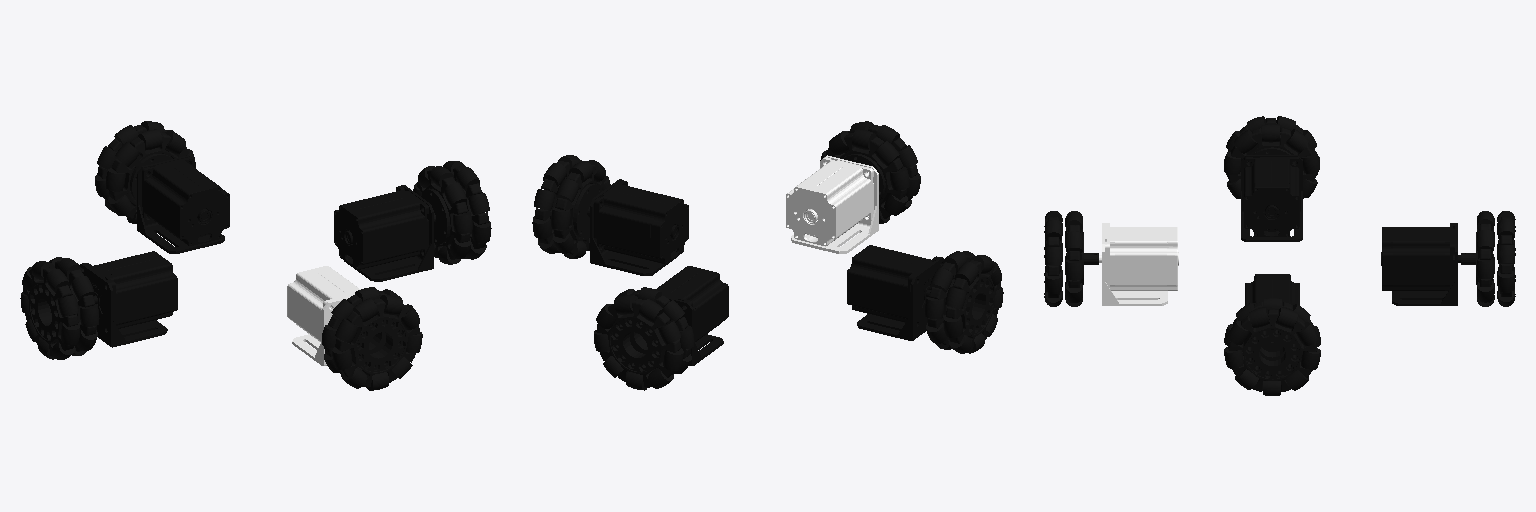
URDF robot description (Robot):
<?xml version="1.0" encoding="utf-8"?>
<!-- This URDF was automatically created by SolidWorks to URDF Exporter! Originally created by [author] ([email redacted]) 
     Commit Version: 1.6.0-4-g7f85cfe  Build Version: 1.6.7995.38578
     For more information, please see http://wiki.ros.org/sw_urdf_exporter -->
<robot
  name="Robot">
  <link
    name="base_link">
    <inertial>
      <origin
        xyz="-0.157486061036765 -0.000285085739825081 -0.0225046964819652"
        rpy="0 0 0" />
      <mass
        value="1.206753271021" />
      <inertia
        ixx="0.00196507531117052"
        ixy="9.86649316798731E-09"
        ixz="-8.71549812039233E-07"
        iyy="0.00245945680236718"
        iyz="6.43777918234759E-20"
        izz="0.00414437527817527" />
    </inertial>
    <visual>
      <origin
        xyz="0 0 0"
        rpy="0 0 0" />
      <geometry>
        <mesh
          filename="package://Robot/meshes/base_link.STL" />
      </geometry>
      <material
        name="">
        <color
          rgba="0.752941176470588 0.752941176470588 0.752941176470588 1" />
      </material>
    </visual>
    <collision>
      <origin
        xyz="0 0 0"
        rpy="0 0 0" />
      <geometry>
        <mesh
          filename="package://Robot/meshes/base_link.STL" />
      </geometry>
    </collision>
  </link>
  <link
    name="motor_one">
    <inertial>
      <origin
        xyz="-0.0130082713947478 -0.00764575523290381 -0.0609808542253382"
        rpy="0 0 0" />
      <mass
        value="0.130915019913126" />
      <inertia
        ixx="8.17591728775009E-05"
        ixy="-3.97120732258765E-10"
        ixz="-5.20030285566146E-06"
        iyy="7.1013184814088E-05"
        iyz="-4.27502061906724E-09"
        izz="7.07541026231804E-05" />
    </inertial>
    <visual>
      <origin
        xyz="0 0 0"
        rpy="0 0 0" />
      <geometry>
        <mesh
          filename="package://Robot/meshes/motor_one.STL" />
      </geometry>
      <material
        name="">
        <color
          rgba="0.0980392156862745 0.0980392156862745 0.0980392156862745 1" />
      </material>
    </visual>
    <collision>
      <origin
        xyz="0 0 0"
        rpy="0 0 0" />
      <geometry>
        <mesh
          filename="package://Robot/meshes/motor_one.STL" />
      </geometry>
    </collision>
  </link>
  <joint
    name="base_motor_one"
    type="fixed">
    <origin
      xyz="0.00119745896918461 0 -0.03"
      rpy="0 0 0" />
    <parent
      link="base_link" />
    <child
      link="motor_one" />
    <axis
      xyz="0 0 0" />
  </joint>
  <link
    name="wheel_one">
    <inertial>
      <origin
        xyz="0.027605 1.3484E-05 6.9609E-05"
        rpy="0 0 0" />
      <mass
        value="0.19596" />
      <inertia
        ixx="7.5537E-05"
        ixy="-5.4765E-11"
        ixz="-2.9465E-10"
        iyy="4.1285E-05"
        iyz="2.009E-11"
        izz="4.1285E-05" />
    </inertial>
    <visual>
      <origin
        xyz="0 0 0"
        rpy="0 0 0" />
      <geometry>
        <mesh
          filename="package://Robot/meshes/wheel_one.STL" />
      </geometry>
      <material
        name="">
        <color
          rgba="0.1098 0.1098 0.1098 1" />
      </material>
    </visual>
    <collision>
      <origin
        xyz="0 0 0"
        rpy="0 0 0" />
      <geometry>
        <mesh
          filename="package://Robot/meshes/wheel_one.STL" />
      </geometry>
    </collision>
  </link>
  <joint
    name="joint_one"
    type="continuous">
    <origin
      xyz="0.03355 -0.0076435 -0.05714"
      rpy="0 0 0" />
    <parent
      link="motor_one" />
    <child
      link="wheel_one" />
    <axis
      xyz="1 0 0" />
  </joint>
  <link
    name="motor_two">
    <inertial>
      <origin
        xyz="-0.0130082713947483 -0.00764575523290717 -0.0609808542253383"
        rpy="0 0 0" />
      <mass
        value="0.130915019913127" />
      <inertia
        ixx="8.17591728775012E-05"
        ixy="-3.97120732366386E-10"
        ixz="-5.20030285566142E-06"
        iyy="7.10131848140883E-05"
        iyz="-4.27502061905043E-09"
        izz="7.07541026231806E-05" />
    </inertial>
    <visual>
      <origin
        xyz="0 0 0"
        rpy="0 0 0" />
      <geometry>
        <mesh
          filename="package://Robot/meshes/motor_two.STL" />
      </geometry>
      <material
        name="">
        <color
          rgba="0.0980392156862745 0.0980392156862745 0.0980392156862745 1" />
      </material>
    </visual>
    <collision>
      <origin
        xyz="0 0 0"
        rpy="0 0 0" />
      <geometry>
        <mesh
          filename="package://Robot/meshes/motor_two.STL" />
      </geometry>
    </collision>
  </link>
  <joint
    name="base_motor_two"
    type="fixed">
    <origin
      xyz="-0.16 0.1612 -0.03"
      rpy="0 0 1.5708" />
    <parent
      link="base_link" />
    <child
      link="motor_two" />
    <axis
      xyz="0 0 0" />
  </joint>
  <link
    name="wheel_two">
    <inertial>
      <origin
        xyz="0.027605 1.3484E-05 6.9609E-05"
        rpy="0 0 0" />
      <mass
        value="0.19596" />
      <inertia
        ixx="7.5537E-05"
        ixy="-5.4777E-11"
        ixz="-2.9464E-10"
        iyy="4.1285E-05"
        iyz="2.0058E-11"
        izz="4.1285E-05" />
    </inertial>
    <visual>
      <origin
        xyz="0 0 0"
        rpy="0 0 0" />
      <geometry>
        <mesh
          filename="package://Robot/meshes/wheel_two.STL" />
      </geometry>
      <material
        name="">
        <color
          rgba="0.1098 0.1098 0.1098 1" />
      </material>
    </visual>
    <collision>
      <origin
        xyz="0 0 0"
        rpy="0 0 0" />
      <geometry>
        <mesh
          filename="package://Robot/meshes/wheel_two.STL" />
      </geometry>
    </collision>
  </link>
  <joint
    name="joint_two"
    type="continuous">
    <origin
      xyz="0.03355 -0.0076435 -0.05714"
      rpy="0 0 0" />
    <parent
      link="motor_two" />
    <child
      link="wheel_two" />
    <axis
      xyz="1 0 0" />
  </joint>
  <link
    name="motor_three">
    <inertial>
      <origin
        xyz="-0.0130082713947506 0.00835424476709146 -0.0609808542253382"
        rpy="0 0 0" />
      <mass
        value="0.130915019913127" />
      <inertia
        ixx="8.17591728775012E-05"
        ixy="-3.97120732180536E-10"
        ixz="-5.20030285566136E-06"
        iyy="7.10131848140883E-05"
        iyz="-4.27502061911874E-09"
        izz="7.07541026231806E-05" />
    </inertial>
    <visual>
      <origin
        xyz="0 0 0"
        rpy="0 0 0" />
      <geometry>
        <mesh
          filename="package://Robot/meshes/motor_three.STL" />
      </geometry>
      <material
        name="">
        <color
          rgba="0.0980392156862745 0.0980392156862745 0.0980392156862745 1" />
      </material>
    </visual>
    <collision>
      <origin
        xyz="0 0 0"
        rpy="0 0 0" />
      <geometry>
        <mesh
          filename="package://Robot/meshes/motor_three.STL" />
      </geometry>
    </collision>
  </link>
  <joint
    name="base_motor_three"
    type="fixed">
    <origin
      xyz="-0.3212 0 -0.03"
      rpy="0 0 3.1416" />
    <parent
      link="base_link" />
    <child
      link="motor_three" />
    <axis
      xyz="0 0 0" />
  </joint>
  <link
    name="wheel_three">
    <inertial>
      <origin
        xyz="0.027605 1.3484E-05 6.9609E-05"
        rpy="0 0 0" />
      <mass
        value="0.19596" />
      <inertia
        ixx="7.5537E-05"
        ixy="-5.5452E-11"
        ixz="-2.9406E-10"
        iyy="4.1285E-05"
        iyz="1.998E-11"
        izz="4.1285E-05" />
    </inertial>
    <visual>
      <origin
        xyz="0 0 0"
        rpy="0 0 0" />
      <geometry>
        <mesh
          filename="package://Robot/meshes/wheel_three.STL" />
      </geometry>
      <material
        name="">
        <color
          rgba="0.1098 0.1098 0.1098 1" />
      </material>
    </visual>
    <collision>
      <origin
        xyz="0 0 0"
        rpy="0 0 0" />
      <geometry>
        <mesh
          filename="package://Robot/meshes/wheel_three.STL" />
      </geometry>
    </collision>
  </link>
  <joint
    name="joint_three"
    type="continuous">
    <origin
      xyz="0.03355 0.0083565 -0.05714"
      rpy="0 0 0" />
    <parent
      link="motor_three" />
    <child
      link="wheel_three" />
    <axis
      xyz="1 0 0" />
  </joint>
  <link
    name="motor_four">
    <inertial>
      <origin
        xyz="0 0 0"
        rpy="0 0 0" />
      <mass
        value="0" />
      <inertia
        ixx="0"
        ixy="0"
        ixz="0"
        iyy="0"
        iyz="0"
        izz="0" />
    </inertial>
    <visual>
      <origin
        xyz="0 0 0"
        rpy="0 0 0" />
      <geometry>
        <mesh
          filename="package://Robot/meshes/motor_four.STL" />
      </geometry>
      <material
        name="">
        <color
          rgba="1 1 1 1" />
      </material>
    </visual>
    <collision>
      <origin
        xyz="0 0 0"
        rpy="0 0 0" />
      <geometry>
        <mesh
          filename="package://Robot/meshes/motor_four.STL" />
      </geometry>
    </collision>
  </link>
  <joint
    name="base_motor_four"
    type="fixed">
    <origin
      xyz="-0.160000000000001 -0.161197458969184 -0.0299999999999984"
      rpy="0 0 -1.5707963267949" />
    <parent
      link="base_link" />
    <child
      link="motor_four" />
    <axis
      xyz="0 0 0" />
  </joint>
  <link
    name="wheel_four">
    <inertial>
      <origin
        xyz="0.027605 1.3484E-05 6.9609E-05"
        rpy="0 0 0" />
      <mass
        value="0.19596" />
      <inertia
        ixx="7.5537E-05"
        ixy="-5.5472E-11"
        ixz="-2.9403E-10"
        iyy="4.1285E-05"
        iyz="1.9984E-11"
        izz="4.1285E-05" />
    </inertial>
    <visual>
      <origin
        xyz="0 0 0"
        rpy="0 0 0" />
      <geometry>
        <mesh
          filename="package://Robot/meshes/wheel_four.STL" />
      </geometry>
      <material
        name="">
        <color
          rgba="0.1098 0.1098 0.1098 1" />
      </material>
    </visual>
    <collision>
      <origin
        xyz="0 0 0"
        rpy="0 0 0" />
      <geometry>
        <mesh
          filename="package://Robot/meshes/wheel_four.STL" />
      </geometry>
    </collision>
  </link>
  <joint
    name="joint_four"
    type="continuous">
    <origin
      xyz="0.03355 0.0077565 -0.05714"
      rpy="0 0 0" />
    <parent
      link="motor_four" />
    <child
      link="wheel_four" />
    <axis
      xyz="1 0 0" />
  </joint>
</robot>

--- Render facts (derived) ---
3 views of the same robot in one strip: view 1: azimuth 30°, elevation 25°; view 2: azimuth 150°, elevation 25°; view 3: azimuth 270°, elevation 25° (orthographic).
Model Robot with 9 links and 8 joints (4 continuous, 4 fixed), rooted at base_link, posed all joints at 0.
Visible links, largest first — view 1: wheel_four, motor_one, motor_two, motor_three, wheel_three, wheel_one, wheel_two, motor_four; view 2: wheel_two, motor_one, motor_four, motor_three, wheel_three, wheel_one, wheel_four, motor_two; view 3: wheel_one, motor_two, motor_four, motor_three, wheel_three, wheel_four, wheel_two, motor_one.
Boxes of the visible links, box(x1,y1,x2,y2) form: wheel_four: box(322, 287, 422, 390); motor_one: box(334, 185, 433, 281); motor_two: box(137, 155, 229, 253); motor_three: box(79, 251, 177, 347); wheel_three: box(20, 257, 98, 359); wheel_one: box(413, 161, 491, 264); wheel_two: box(95, 121, 195, 223); motor_four: box(287, 266, 360, 365); wheel_two: box(594, 287, 694, 390); motor_one: box(590, 179, 688, 275); motor_four: box(786, 155, 878, 253); motor_three: box(847, 245, 944, 340); wheel_three: box(925, 251, 1003, 353); wheel_one: box(532, 155, 610, 258); wheel_four: box(820, 121, 920, 223); motor_two: box(656, 266, 728, 365); wheel_one: box(1224, 298, 1320, 395); motor_two: box(1381, 223, 1460, 305); motor_four: box(1099, 223, 1178, 305); motor_three: box(1241, 155, 1302, 241); wheel_three: box(1224, 116, 1319, 198); wheel_four: box(1044, 211, 1098, 306); wheel_two: box(1461, 211, 1515, 306); motor_one: box(1245, 274, 1299, 305).
Bounding box of the posed robot: 0.4872 × 0.4872 × 0.1 m (x, y, z).
8 mesh visuals loaded from 9 distinct referenced files (8 binary STL); not drawn: 1 (reference not matched to a file when rendering).